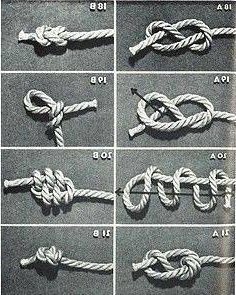9/可回收垃圾/绳子: (121, 165, 236, 213), (128, 90, 236, 138), (3, 167, 114, 207), (130, 19, 236, 60), (23, 89, 97, 147), (131, 248, 235, 281), (19, 245, 113, 271), (18, 24, 114, 45)
